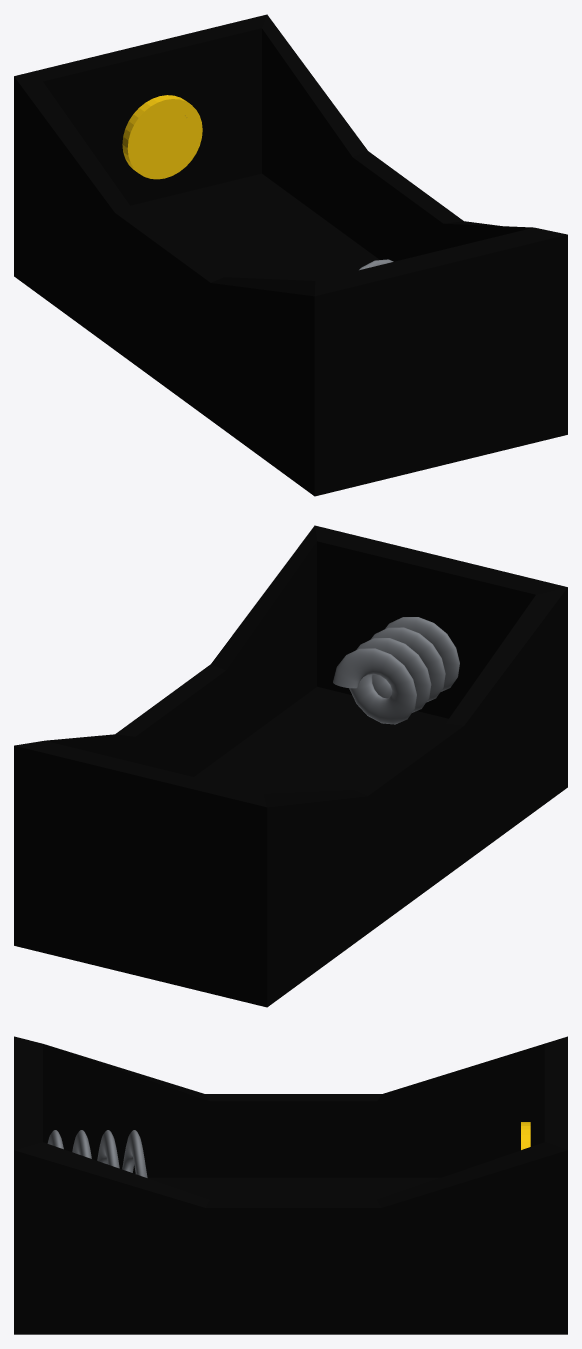
The model's file is BatteryHolderProp.fbx.
3 views of the same model, one above another, from view 1: azimuth 30°, elevation 25°; view 2: azimuth 150°, elevation 25°; view 3: azimuth 270°, elevation 25° (orthographic). The views are drawn at different scales.
Parts seen in each view (by area): view 1: BatteryHolderProp, Cylinder; view 2: BatteryHolderProp, Circle; view 3: BatteryHolderProp, Circle.
Boxes of the visible parts, <box> form: BatteryHolderProp: <box>14,14,567,496</box>; Cylinder: <box>122,95,202,179</box>; BatteryHolderProp: <box>14,525,567,1007</box>; Circle: <box>333,617,459,724</box>; BatteryHolderProp: <box>14,1036,567,1334</box>; Circle: <box>47,1130,147,1177</box>.
Size of the model in its own units: 89.1 by 67.29 by 183.
